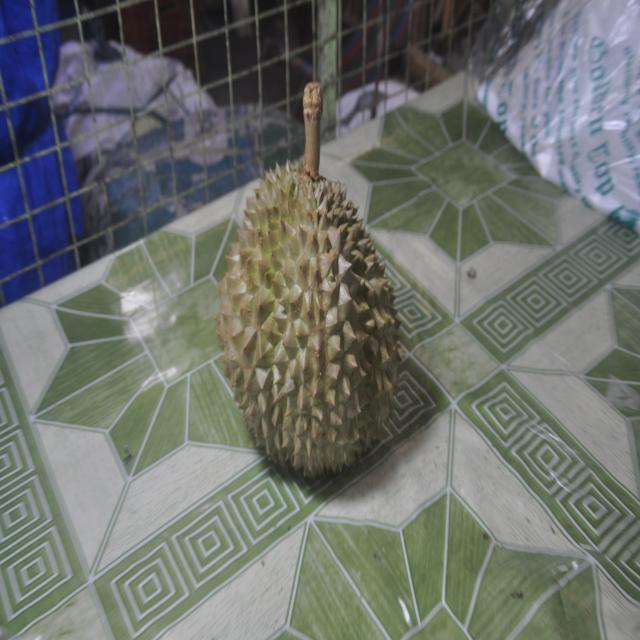mature: (216, 82, 401, 477)
